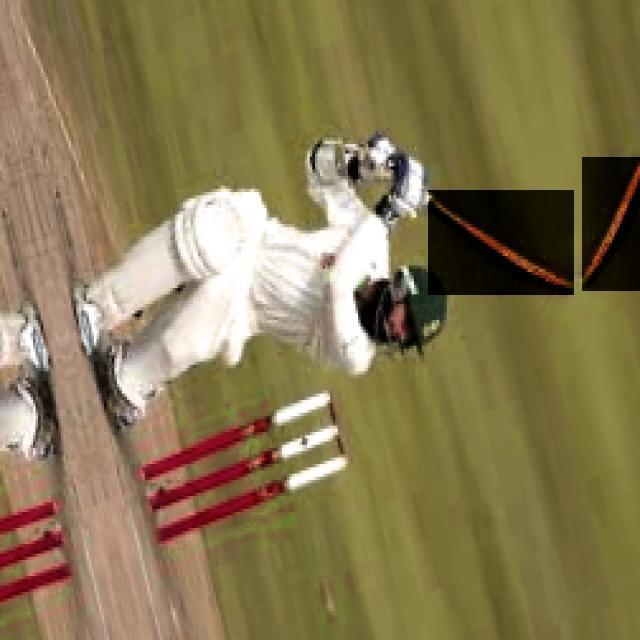bat: (430, 191, 573, 301)
